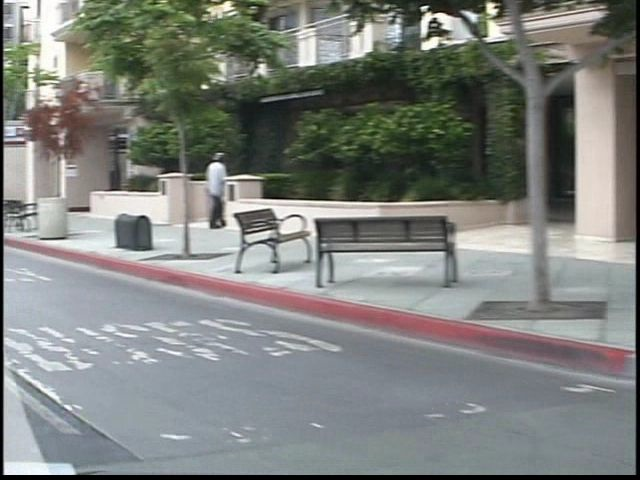person: (183, 147, 216, 238)
